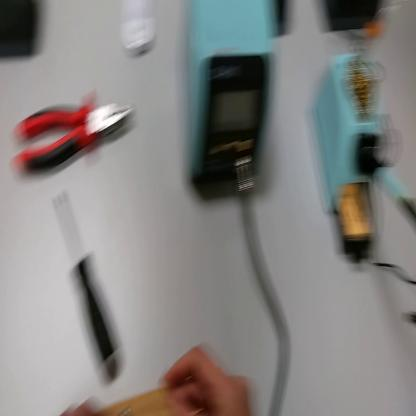hand: (161, 340, 251, 416), (66, 392, 111, 413)
high voltage board: (115, 404, 135, 414)
pliers: (10, 90, 138, 180)
screwdriver-: (54, 191, 121, 379)
socket: (320, 3, 381, 41), (266, 6, 294, 40)
welder base: (318, 44, 387, 265)
welder probe tip: (365, 144, 415, 228)
welder station: (185, 3, 285, 206)
working area: (48, 364, 230, 416)
